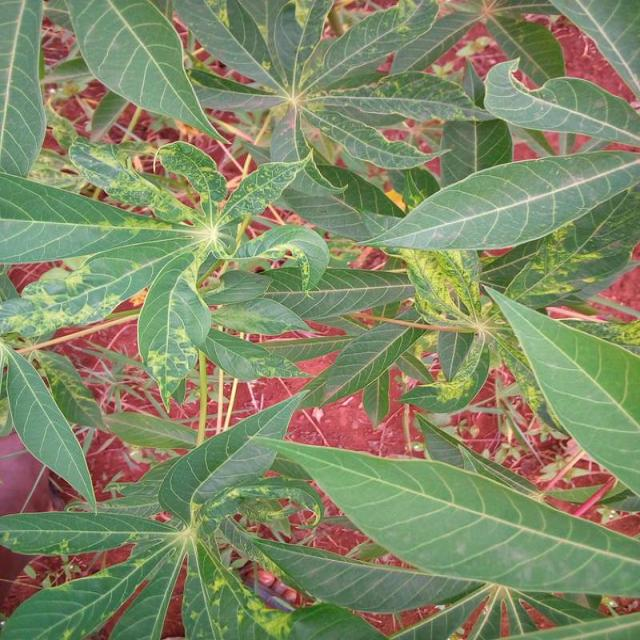cassava leaf: (1, 0, 638, 638), (244, 433, 639, 598), (481, 282, 638, 497)
